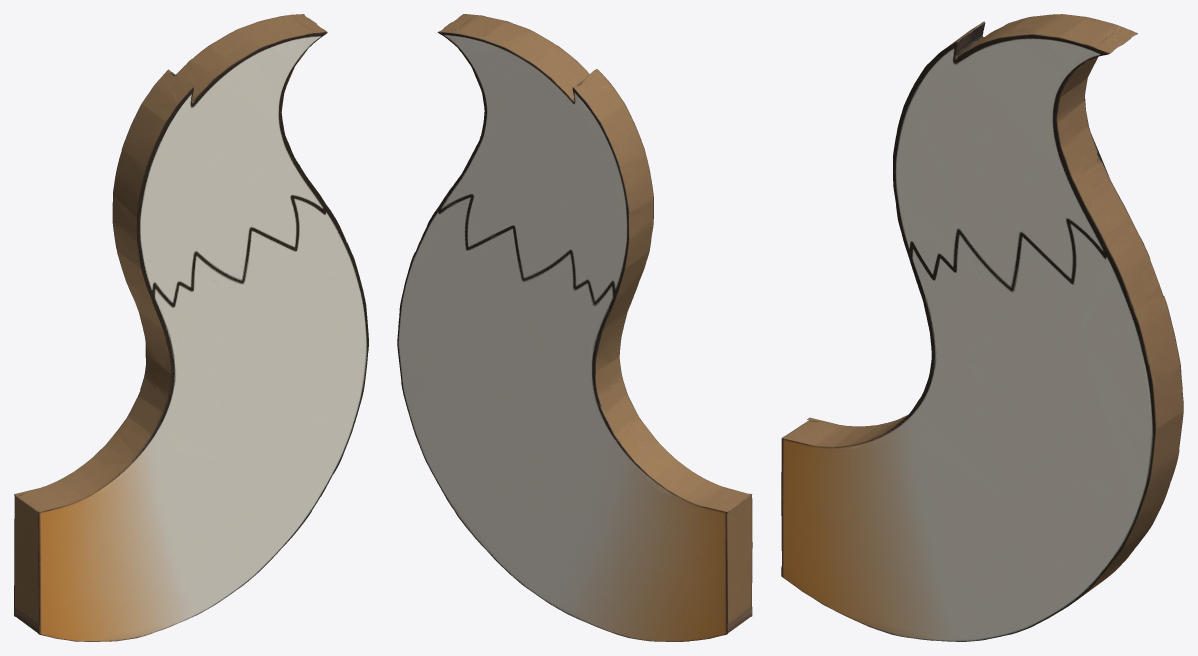
The model's file is tail.glb.
3 views of the same model, side by side, from view 1: azimuth 30°, elevation 25°; view 2: azimuth 150°, elevation 25°; view 3: azimuth 330°, elevation 25° (orthographic). The views are drawn at different scales.
Size of the model in its own units: 1.17 by 1.9 by 0.1546.
Materials: 1 (1 with a texture image).
